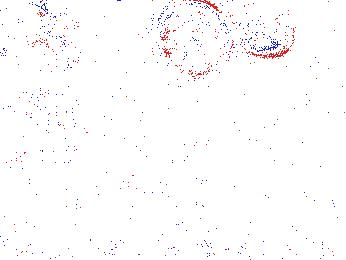moon jellyfish: (156, 1, 233, 78), (219, 1, 296, 58), (6, 27, 68, 93), (21, 119, 94, 169), (1, 1, 48, 47)
